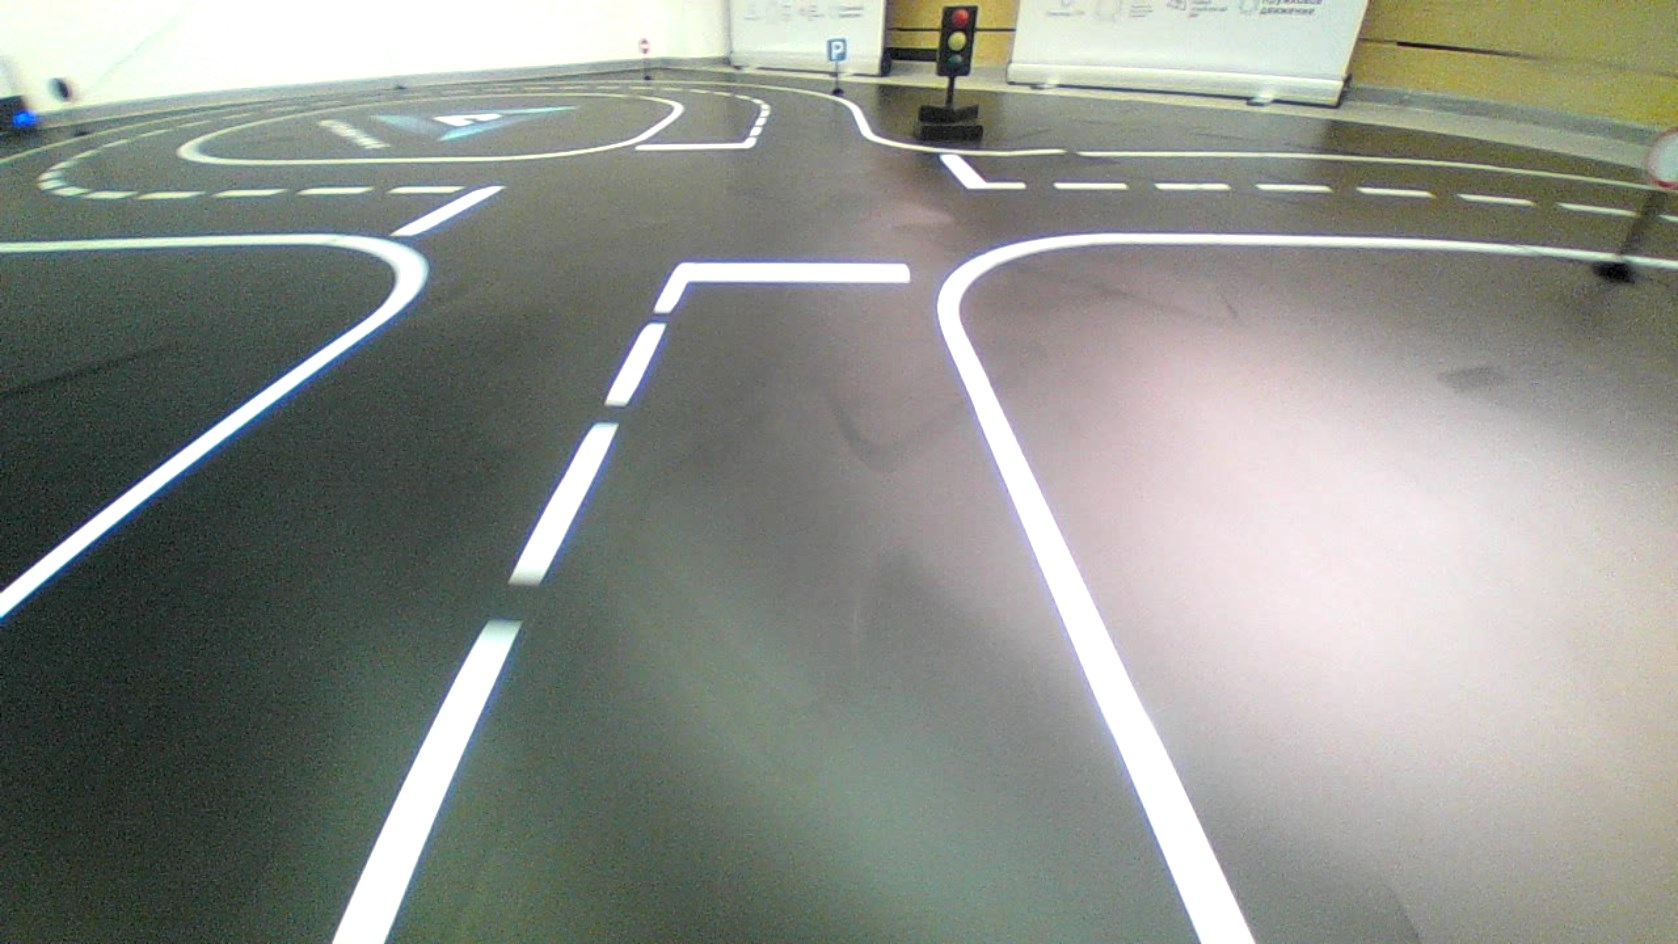trafficlight: (935, 3, 980, 77)
